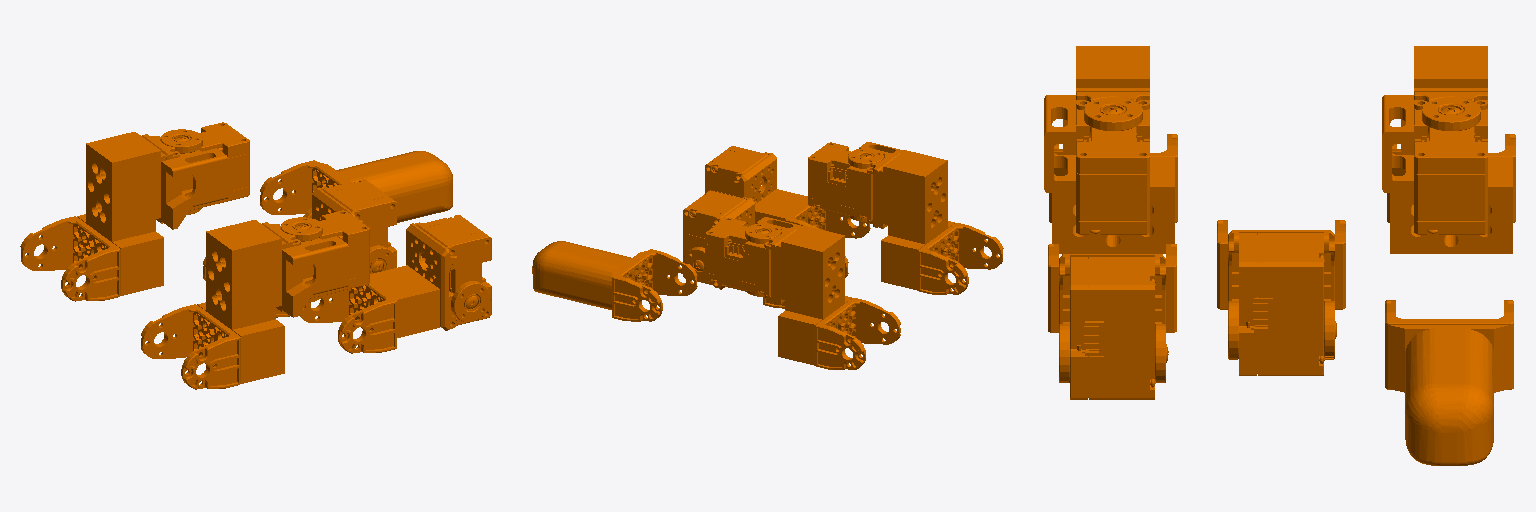
robot.urdf — onshape:
<robot name="onshape">
  <link name="palm_lower">
    <inertial>
      <origin xyz="0.0 0.0 0.0" rpy="0.0 -0.0 0.0"/>
      <mass value="0.237"/>
      <inertia ixx="0.000354094" ixy="-1.193e-06" ixz="-2.445e-06" iyy="0.000260915" iyz="-2.905e-06" izz="0.000529257"/>
    </inertial>
    <visual>
      <geometry>
        <mesh filename="../assets/leap/leap_hand/palm_lower.stl"/>
      </geometry>
      <origin xyz="-0.020095249652862544 0.025757756134899473 -0.034722403578460216" rpy="0.0 -0.0 0.0"/>
      <material name="palm_lower_material">
        <color rgba="0.6039215686274509 0.14901960784313725 0.14901960784313725 1.0"/>
      </material>
    </visual>
    <collision>
      <geometry>
        <mesh filename="../assets/leap/leap_hand/palm_lower.stl"/>
      </geometry>
      <origin xyz="-0.020095249652862544 0.025757756134899473 -0.034722403578460216" rpy="0.0 -0.0 0.0"/>
    </collision>
  </link>
  <link name="mcp_joint_long">
    <inertial>
      <origin xyz="0.0 0.0 0.0" rpy="0.0 -0.0 0.0"/>
      <mass value="0.044"/>
      <inertia ixx="1.1499e-05" ixy="3.049e-06" ixz="1.21e-07" iyy="7.796e-06" iyz="1.12e-07" izz="1.4759e-05"/>
    </inertial>
    <visual>
      <geometry>
        <mesh filename="custom_models/mcp_joint_long.stl"/>
      </geometry>
      <origin xyz="0.008406902261174496 0.0077662438597169954 0.014657354985032912" rpy="1.6375789613221e-15 -1.021047330249102e-30 1.7177968783327987e-31"/>
      <material name="mcp_joint_material">
        <color rgba="0.878 0.467 0.0 1.0"/>
      </material>
    </visual>
    <collision>
      <geometry>
        <mesh filename="custom_models/mcp_joint_long.stl"/>
      </geometry>
      <origin xyz="0.008406902261174496 0.0077662438597169954 0.014657354985032912" rpy="1.6375789613221e-15 -1.021047330249102e-30 1.7177968783327987e-31"/>
    </collision>
  </link>
  <link name="pip">
    <inertial>
      <origin xyz="0.0 0.0 0.0" rpy="0.0 -0.0 0.0"/>
      <mass value="0.032"/>
      <inertia ixx="4.798e-06" ixy="1.2e-08" ixz="4e-09" iyy="2.862e-06" iyz="1.1e-08" izz="4.234e-06"/>
    </inertial>
    <visual>
      <geometry>
        <mesh filename="../assets/leap/leap_hand/pip.stl"/>
      </geometry>
      <origin xyz="0.009643363092271328 0.0002999999999999895 0.0007840340104173765" rpy="-1.5707963267948966 -1.5707963267948963 0.0"/>
      <material name="pip_material">
        <color rgba="0.7490196078431373 0.7490196078431373 0.7490196078431373 1.0"/>
      </material>
    </visual>
    <collision>
      <geometry>
        <mesh filename="../assets/leap/leap_hand/pip.stl"/>
      </geometry>
      <origin xyz="0.009643363092271328 0.0002999999999999895 0.0007840340104173765" rpy="-1.5707963267948966 -1.5707963267948963 0.0"/>
    </collision>
  </link>
  <link name="dip">
    <inertial>
      <origin xyz="0.0 0.0 0.0" rpy="0.0 -0.0 0.0"/>
      <mass value="0.037"/>
      <inertia ixx="5.542e-06" ixy="-6.07e-07" ixz="-1.7e-08" iyy="5.727e-06" iyz="-2.3e-08" izz="6.682e-06"/>
    </inertial>
    <visual>
      <geometry>
        <mesh filename="../assets/leap/leap_hand/dip.stl"/>
      </geometry>
      <origin xyz="0.021133352895225003 -0.00843211914670488 0.00978508816209524" rpy="-3.141592653589793 4.507511124216441e-32 4.439548105392361e-32"/>
      <material name="dip_material">
        <color rgba="0.8666666666666667 0.8666666666666667 0.050980392156862744 1.0"/>
      </material>
    </visual>
    <collision>
      <geometry>
        <mesh filename="../assets/leap/leap_hand/dip.stl"/>
      </geometry>
      <origin xyz="0.021133352895225003 -0.00843211914670488 0.00978508816209524" rpy="-3.141592653589793 4.507511124216441e-32 4.439548105392361e-32"/>
    </collision>
  </link>
  <link name="fingertip_long">
    <inertial>
      <origin xyz="0.0 0.0 0.0" rpy="0.0 -0.0 0.0"/>
      <mass value="0.016"/>
      <inertia ixx="3.368e-06" ixy="1.15e-07" ixz="0.0" iyy="1.556e-06" iyz="0.0" izz="2.863e-06"/>
    </inertial>
    <visual>
      <geometry>
        <mesh filename="custom_models/fingertip_long.stl"/>
      </geometry>
      <origin xyz="0.013286424108533503 -0.006114238386541987 0.014499999999999498" rpy="3.141592653589793 1.1993117970061735e-33 4.439548105392361e-32"/>
      <material name="fingertip_material">
        <color rgba="0.878 0.467 0.0 1.0"/>
      </material>
    </visual>
    <collision>
      <geometry>
        <mesh filename="custom_models/fingertip_long.stl"/>
      </geometry>
      <origin xyz="0.013286424108533503 -0.006114238386541987 0.014499999999999498" rpy="3.141592653589793 1.1993117970061735e-33 4.439548105392361e-32"/>
    </collision>
  </link>
  <link name="pip_4">
    <inertial>
      <origin xyz="0.0 0.0 0.0" rpy="0.0 -0.0 0.0"/>
      <mass value="0.032"/>
      <inertia ixx="4.798e-06" ixy="1.2e-08" ixz="4e-09" iyy="2.862e-06" iyz="1.1e-08" izz="4.234e-06"/>
    </inertial>
    <visual>
      <geometry>
        <mesh filename="../assets/leap/leap_hand/pip.stl"/>
      </geometry>
      <origin xyz="-0.005356636907728671 0.0002999999999999999 0.0007840340104173782" rpy="-1.5707963267948966 -1.5707963267948963 0.0"/>
      <material name="pip_material">
        <color rgba="0.7490196078431373 0.7490196078431373 0.7490196078431373 1.0"/>
      </material>
    </visual>
    <collision>
      <geometry>
        <mesh filename="../assets/leap/leap_hand/pip.stl"/>
      </geometry>
      <origin xyz="-0.005356636907728671 0.0002999999999999999 0.0007840340104173782" rpy="-1.5707963267948966 -1.5707963267948963 0.0"/>
    </collision>
  </link>
  <link name="thumb_pip">
    <inertial>
      <origin xyz="0.0 0.0 0.0" rpy="0.0 -0.0 0.0"/>
      <mass value="0.003"/>
      <inertia ixx="5.93e-07" ixy="0.0" ixz="0.0" iyy="5.49e-07" iyz="0.0" izz="2.24e-07"/>
    </inertial>
    <visual>
      <geometry>
        <mesh filename="../assets/leap/leap_hand/thumb_pip.stl"/>
      </geometry>
      <origin xyz="0.011961920770611187 -5.30825383648903e-16 -0.0158526489566642" rpy="1.5707963267948966 1.6050198443300153e-46 -3.9204996250525193e-59"/>
      <material name="thumb_pip_material">
        <color rgba="0.8666666666666667 0.8666666666666667 0.050980392156862744 1.0"/>
      </material>
    </visual>
    <collision>
      <geometry>
        <mesh filename="../assets/leap/leap_hand/thumb_pip.stl"/>
      </geometry>
      <origin xyz="0.011961920770611187 -5.30825383648903e-16 -0.0158526489566642" rpy="1.5707963267948966 1.6050198443300153e-46 -3.9204996250525193e-59"/>
    </collision>
  </link>
  <link name="thumb_dip">
    <inertial>
      <origin xyz="0.0 0.0 0.0" rpy="0.0 -0.0 0.0"/>
      <mass value="0.038"/>
      <inertia ixx="8.474e-06" ixy="2.41e-07" ixz="2.6e-08" iyy="3.841e-06" iyz="2.5e-08" izz="7.679e-06"/>
    </inertial>
    <visual>
      <geometry>
        <mesh filename="../assets/leap/leap_hand/thumb_dip.stl"/>
      </geometry>
      <origin xyz="0.043968715707239175 0.0579529529737092 -0.008628676449369476" rpy="1.94289029309401e-16 3.27515792264422e-15 1.112375852965736e-46"/>
      <material name="thumb_dip_material">
        <color rgba="0.8666666666666667 0.8666666666666667 0.050980392156862744 1.0"/>
      </material>
    </visual>
    <collision>
      <geometry>
        <mesh filename="../assets/leap/leap_hand/thumb_dip.stl"/>
      </geometry>
      <origin xyz="0.043968715707239175 0.0579529529737092 -0.008628676449369476" rpy="1.94289029309401e-16 3.27515792264422e-15 1.112375852965736e-46"/>
    </collision>
  </link>
  <link name="thumb_fingertip">
    <inertial>
      <origin xyz="0.0 0.0 0.0" rpy="0.0 -0.0 0.0"/>
      <mass value="0.049"/>
      <inertia ixx="2.0372e-05" ixy="-4.89e-07" ixz="-3e-08" iyy="4.336e-06" iyz="-9.7e-08" izz="1.9845e-05"/>
    </inertial>
    <visual>
      <geometry>
        <mesh filename="../assets/leap/leap_hand/thumb_fingertip.stl"/>
      </geometry>
      <origin xyz="0.06255953846266739 0.07845968291139699 0.048992911807332215" rpy="4.379057701015637e-47 -3.33066907387547e-16 1.2042408677791935e-46"/>
      <material name="thumb_fingertip_material">
        <color rgba="0.6039215686274509 0.14901960784313725 0.14901960784313725 1.0"/>
      </material>
    </visual>
    <collision>
      <geometry>
        <mesh filename="../assets/leap/leap_hand/thumb_fingertip.stl"/>
      </geometry>
      <origin xyz="0.06255953846266739 0.07845968291139699 0.048992911807332215" rpy="4.379057701015637e-47 -3.33066907387547e-16 1.2042408677791935e-46"/>
    </collision>
  </link>
  <link name="mcp_joint_2">
    <inertial>
      <origin xyz="0.0 0.0 0.0" rpy="0.0 -0.0 0.0"/>
      <mass value="0.044"/>
      <inertia ixx="1.1499e-05" ixy="3.049e-06" ixz="1.21e-07" iyy="7.796e-06" iyz="1.12e-07" izz="1.4759e-05"/>
    </inertial>
    <visual>
      <geometry>
        <mesh filename="../assets/leap/leap_hand/mcp_joint.stl"/>
      </geometry>
      <origin xyz="0.008406902261174496 0.0077662438597169954 0.014657354985032914" rpy="1.6375789613221e-15 -1.0076465469034e-30 2.1209300131419907e-61"/>
      <material name="mcp_joint_material">
        <color rgba="0.8666666666666667 0.8666666666666667 0.050980392156862744 1.0"/>
      </material>
    </visual>
    <collision>
      <geometry>
        <mesh filename="../assets/leap/leap_hand/mcp_joint.stl"/>
      </geometry>
      <origin xyz="0.008406902261174496 0.0077662438597169954 0.014657354985032914" rpy="1.6375789613221e-15 -1.0076465469034e-30 2.1209300131419907e-61"/>
    </collision>
  </link>
  <link name="pip_2">
    <inertial>
      <origin xyz="0.0 0.0 0.0" rpy="0.0 -0.0 0.0"/>
      <mass value="0.032"/>
      <inertia ixx="4.798e-06" ixy="1.2e-08" ixz="4e-09" iyy="2.862e-06" iyz="1.1e-08" izz="4.234e-06"/>
    </inertial>
    <visual>
      <geometry>
        <mesh filename="../assets/leap/leap_hand/pip.stl"/>
      </geometry>
      <origin xyz="0.009643363092271328 0.0002999999999999947 0.0007840340104173765" rpy="-1.5707963267948966 -1.5707963267948963 0.0"/>
      <material name="pip_material">
        <color rgba="0.7490196078431373 0.7490196078431373 0.7490196078431373 1.0"/>
      </material>
    </visual>
    <collision>
      <geometry>
        <mesh filename="../assets/leap/leap_hand/pip.stl"/>
      </geometry>
      <origin xyz="0.009643363092271328 0.0002999999999999947 0.0007840340104173765" rpy="-1.5707963267948966 -1.5707963267948963 0.0"/>
    </collision>
  </link>
  <link name="dip_2_long">
    <inertial>
      <origin xyz="0.0 0.0 0.0" rpy="0.0 -0.0 0.0"/>
      <mass value="0.037"/>
      <inertia ixx="5.542e-06" ixy="-6.07e-07" ixz="-1.7e-08" iyy="5.727e-06" iyz="-2.3e-08" izz="6.682e-06"/>
    </inertial>
    <visual>
      <geometry>
        <mesh filename="custom_models/dip_long.stl"/>
      </geometry>
      <origin xyz="0.021133352895225003 -0.008432119146704865 0.009785088162095237" rpy="-3.141592653589793 2.1146933785271956e-32 1.4408183216511869e-31"/>
      <material name="dip_material">
        <color rgba="0.878 0.467 0.0 1.0"/>
      </material>
    </visual>
    <collision>
      <geometry>
        <mesh filename="custom_models/dip_long.stl"/>
      </geometry>
      <origin xyz="0.021133352895225003 -0.008432119146704865 0.009785088162095237" rpy="-3.141592653589793 2.1146933785271956e-32 1.4408183216511869e-31"/>
    </collision>
  </link>
  <link name="fingertip_2">
    <inertial>
      <origin xyz="0.0 0.0 0.0" rpy="0.0 -0.0 0.0"/>
      <mass value="0.016"/>
      <inertia ixx="3.368e-06" ixy="1.15e-07" ixz="0.0" iyy="1.556e-06" iyz="0.0" izz="2.863e-06"/>
    </inertial>
    <visual>
      <geometry>
        <mesh filename="../assets/leap/leap_hand/fingertip.stl"/>
      </geometry>
      <origin xyz="0.013286424108533496 -0.006114238386542001 0.014499999999999496" rpy="3.141592653589793 -4.317959788283594e-33 1.4408183216511869e-31"/>
      <material name="fingertip_material">
        <color rgba="0.8666666666666667 0.8666666666666667 0.050980392156862744 1.0"/>
      </material>
    </visual>
    <collision>
      <geometry>
        <mesh filename="../assets/leap/leap_hand/fingertip.stl"/>
      </geometry>
      <origin xyz="0.013286424108533496 -0.006114238386542001 0.014499999999999496" rpy="3.141592653589793 -4.317959788283594e-33 1.4408183216511869e-31"/>
    </collision>
  </link>
  <link name="mcp_joint_3_long">
    <inertial>
      <origin xyz="0.0 0.0 0.0" rpy="0.0 -0.0 0.0"/>
      <mass value="0.044"/>
      <inertia ixx="1.1499e-05" ixy="3.049e-06" ixz="1.21e-07" iyy="7.796e-06" iyz="1.12e-07" izz="1.4759e-05"/>
    </inertial>
    <visual>
      <geometry>
        <mesh filename="custom_models/mcp_joint_long.stl"/>
      </geometry>
      <origin xyz="0.0084069022611745 0.007766243859716996 0.014657354985032914" rpy="1.6375789613221e-15 -1.0059504988632627e-30 5.729641584552035e-32"/>
      <material name="mcp_joint_material">
        <color rgba="0.878 0.467 0.0 1.0"/>
      </material>
    </visual>
    <collision>
      <geometry>
        <mesh filename="custom_models/mcp_joint_long.stl"/>
      </geometry>
      <origin xyz="0.0084069022611745 0.007766243859716996 0.014657354985032914" rpy="1.6375789613221e-15 -1.0059504988632627e-30 5.729641584552035e-32"/>
    </collision>
  </link>
  <link name="pip_3">
    <inertial>
      <origin xyz="0.0 0.0 0.0" rpy="0.0 -0.0 0.0"/>
      <mass value="0.032"/>
      <inertia ixx="4.798e-06" ixy="1.2e-08" ixz="4e-09" iyy="2.862e-06" iyz="1.1e-08" izz="4.234e-06"/>
    </inertial>
    <visual>
      <geometry>
        <mesh filename="../assets/leap/leap_hand/pip.stl"/>
      </geometry>
      <origin xyz="0.009643363092271331 0.00029999999999998084 0.0007840340104173765" rpy="-1.5707963267948966 -1.5707963267948963 0.0"/>
      <material name="pip_material">
        <color rgba="0.7490196078431373 0.7490196078431373 0.7490196078431373 1.0"/>
      </material>
    </visual>
    <collision>
      <geometry>
        <mesh filename="../assets/leap/leap_hand/pip.stl"/>
      </geometry>
      <origin xyz="0.009643363092271331 0.00029999999999998084 0.0007840340104173765" rpy="-1.5707963267948966 -1.5707963267948963 0.0"/>
    </collision>
  </link>
  <link name="dip_3_long">
    <inertial>
      <origin xyz="0.0 0.0 0.0" rpy="0.0 -0.0 0.0"/>
      <mass value="0.037"/>
      <inertia ixx="5.542e-06" ixy="-6.07e-07" ixz="-1.7e-08" iyy="5.727e-06" iyz="-2.3e-08" izz="6.682e-06"/>
    </inertial>
    <visual>
      <geometry>
        <mesh filename="custom_models/dip_long.stl"/>
      </geometry>
      <origin xyz="0.021133352895225006 -0.008432119146704865 0.009785088162095237" rpy="-3.141592653589793 -1.4095651113919093e-33 1.5565411607615035e-32"/>
      <material name="dip_material">
        <color rgba="0.878 0.467 0.0 1.0"/>
      </material>
    </visual>
    <collision>
      <geometry>
        <mesh filename="custom_models/dip_long.stl"/>
      </geometry>
      <origin xyz="0.021133352895225006 -0.008432119146704865 0.009785088162095237" rpy="-3.141592653589793 -1.4095651113919093e-33 1.5565411607615035e-32"/>
    </collision>
  </link>
  <link name="fingertip_3">
    <inertial>
      <origin xyz="0.0 0.0 0.0" rpy="0.0 -0.0 0.0"/>
      <mass value="0.016"/>
      <inertia ixx="3.368e-06" ixy="1.15e-07" ixz="0.0" iyy="1.556e-06" iyz="0.0" izz="2.863e-06"/>
    </inertial>
    <visual>
      <geometry>
        <mesh filename="../assets/leap/leap_hand/fingertip.stl"/>
      </geometry>
      <origin xyz="0.013286424108533501 -0.006114238386541987 0.0144999999999995" rpy="3.141592653589793 8.61707169505754e-33 1.5565411607615035e-32"/>
      <material name="fingertip_material">
        <color rgba="0.8666666666666667 0.8666666666666667 0.050980392156862744 1.0"/>
      </material>
    </visual>
    <collision>
      <geometry>
        <mesh filename="../assets/leap/leap_hand/fingertip.stl"/>
      </geometry>
      <origin xyz="0.013286424108533501 -0.006114238386541987 0.0144999999999995" rpy="3.141592653589793 8.61707169505754e-33 1.5565411607615035e-32"/>
    </collision>
  </link>
  <joint name="1" type="revolute">
    <parent link="palm_lower"/>
    <child link="mcp_joint_long"/>
    <origin xyz="-0.007095249652862546 0.023057756134899472 -0.01872240357846022" rpy="1.570796326794895 1.5707963267948946 0.0"/>
    <axis xyz="0.0 0.0 -1.0"/>
    <limit effort="0.95" velocity="8.48" lower="-0.314" upper="2.23"/>
  </joint>
  <joint name="0" type="revolute">
    <parent link="mcp_joint_long"/>
    <child link="pip"/>
    <origin xyz="-0.012200000000000007713 0.053099999999999994982 0.014500000000000000736" rpy="-1.5707963267948966 -1.0065212660796337e-15 1.5707963267948943"/>
    <axis xyz="0.0 0.0 -1.0"/>
    <limit effort="0.95" velocity="8.48" lower="-1.047" upper="1.047"/>
  </joint>
  <joint name="2" type="revolute">
    <parent link="pip"/>
    <child link="dip"/>
    <origin xyz="0.014999999999999968 0.014299999999999905 -0.012999999999999824" rpy="1.570796326794896 -1.5707963267948963 0.0"/>
    <axis xyz="0.0 0.0 -1.0"/>
    <limit effort="0.95" velocity="8.48" lower="-0.506" upper="1.885"/>
  </joint>
  <joint name="3" type="revolute">
    <parent link="dip"/>
    <child link="fingertip_long"/>
    <origin xyz="-4.088058249557269e-09 -0.03610000421036737 0.0002000000000000786" rpy="4.5935029425113685e-17 -2.8730071914463795e-16 4.439548105392361e-32"/>
    <axis xyz="0.0 0.0 -1.0"/>
    <limit effort="0.95" velocity="8.48" lower="-0.366" upper="2.042"/>
  </joint>
  <joint name="12" type="revolute">
    <parent link="palm_lower"/>
    <child link="pip_4"/>
    <origin xyz="-0.06939524965286253 -0.0012422438651005258 -0.021622403578460216" rpy="-8.238176646493942e-17 1.5707963267948957 0.0"/>
    <axis xyz="0.0 0.0 -1.0"/>
    <limit effort="0.95" velocity="8.48" lower="-0.349" upper="2.094"/>
  </joint>
  <joint name="13" type="revolute">
    <parent link="pip_4"/>
    <child link="thumb_pip"/>
    <origin xyz="-2.7755575615628914e-17 0.014300000000000005 -0.013000000000000012" rpy="1.570796326794896 -1.5707963267948963 0.0"/>
    <axis xyz="0.0 0.0 -1.0"/>
    <limit effort="0.95" velocity="8.48" lower="-0.47" upper="2.443"/>
  </joint>
  <joint name="14" type="revolute">
    <parent link="thumb_pip"/>
    <child link="thumb_dip"/>
    <origin xyz="0.0 0.014499999999999966 -0.017000000000000053" rpy="-1.5707963267948966 1.6050198443300131e-46 -1.9721522630516625e-31"/>
    <axis xyz="0.0 0.0 -1.0"/>
    <limit effort="0.95" velocity="8.48" lower="-1.2" upper="1.9"/>
  </joint>
  <joint name="15" type="revolute">
    <parent link="thumb_dip"/>
    <child link="thumb_fingertip"/>
    <origin xyz="-1.249000902703301e-16 0.046599999999999864 0.0001999999999999771" rpy="1.506395849149178e-44 5.423418723393526e-31 3.141592653589793"/>
    <axis xyz="0.0 0.0 -1.0"/>
    <limit effort="0.95" velocity="8.48" lower="-1.34" upper="1.88"/>
  </joint>
  <joint name="5" type="revolute">
    <parent link="palm_lower"/>
    <child link="mcp_joint_2"/>
    <origin xyz="-0.007095249652862546 -0.022392243865100525 -0.01872240357846022" rpy="1.570796326794895 1.5707963267948946 0.0"/>
    <axis xyz="0.0 0.0 -1.0"/>
    <limit effort="0.95" velocity="8.48" lower="-0.314" upper="2.23"/>
  </joint>
  <joint name="4" type="revolute">
    <parent link="mcp_joint_2"/>
    <child link="pip_2"/>
    <origin xyz="-0.012200000000000008 0.038099999999999995 0.0145" rpy="-1.5707963267948966 -1.0065212660796337e-15 1.5707963267948943"/>
    <axis xyz="0.0 0.0 -1.0"/>
    <limit effort="0.95" velocity="8.48" lower="-1.047" upper="1.047"/>
  </joint>
  <joint name="6" type="revolute">
    <parent link="pip_2"/>
    <child link="dip_2_long"/>
    <origin xyz="0.014999999999999968 0.014299999999999905 -0.012999999999999824" rpy="1.570796326794896 -1.5707963267948963 0.0"/>
    <axis xyz="0.0 0.0 -1.0"/>
    <limit effort="0.95" velocity="8.48" lower="-0.506" upper="1.885"/>
  </joint>
  <joint name="7" type="revolute">
    <parent link="dip_2_long"/>
    <child link="fingertip_2"/>
    <origin xyz="-4.0880582495572692636e-09 -0.051100004210367367397 0.00020000000000007858714" rpy="4.5935029425113685e-17 -2.8730071914463795e-16 4.439548105392361e-32"/>
    <axis xyz="0.0 0.0 -1.0"/>
    <limit effort="0.95" velocity="8.48" lower="-0.366" upper="2.042"/>
  </joint>
  <joint name="9" type="revolute">
    <parent link="palm_lower"/>
    <child link="mcp_joint_3_long"/>
    <origin xyz="-0.007095249652862546 -0.06784224386510052 -0.01872240357846022" rpy="1.570796326794895 1.5707963267948946 0.0"/>
    <axis xyz="0.0 0.0 -1.0"/>
    <limit effort="0.95" velocity="8.48" lower="-0.314" upper="2.23"/>
  </joint>
  <joint name="8" type="revolute">
    <parent link="mcp_joint_3_long"/>
    <child link="pip_3"/>
    <origin xyz="-0.012200000000000007713 0.053099999999999994982 0.014500000000000000736" rpy="-1.5707963267948966 -1.0065212660796337e-15 1.5707963267948943"/>
    <axis xyz="0.0 0.0 -1.0"/>
    <limit effort="0.95" velocity="8.48" lower="-1.047" upper="1.047"/>
  </joint>
  <joint name="10" type="revolute">
    <parent link="pip_3"/>
    <child link="dip_3_long"/>
    <origin xyz="0.014999999999999968 0.014299999999999905 -0.012999999999999824" rpy="1.570796326794896 -1.5707963267948963 0.0"/>
    <axis xyz="0.0 0.0 -1.0"/>
    <limit effort="0.95" velocity="8.48" lower="-0.506" upper="1.885"/>
  </joint>
  <joint name="11" type="revolute">
    <parent link="dip_3_long"/>
    <child link="fingertip_3"/>
    <origin xyz="-4.0880582495572692636e-09 -0.051100004210367367397 0.00020000000000007858714" rpy="4.5935029425113685e-17 -2.8730071914463795e-16 4.439548105392361e-32"/>
    <axis xyz="0.0 0.0 -1.0"/>
    <limit effort="0.95" velocity="8.48" lower="-0.366" upper="2.042"/>
  </joint>
</robot>

--- Render facts (derived) ---
Views: 3 orthographic renders of the robot side by side, from view 1: azimuth 30°, elevation 25°; view 2: azimuth 150°, elevation 25°; view 3: azimuth 270°, elevation 25°.
Robot: onshape — 17 links, 16 joints (16 revolute); root link palm_lower; default pose: every joint at zero.
Links seen in each view (by area): view 1: mcp_joint_3_long, mcp_joint_long, dip_3_long, fingertip_long, dip_2_long; view 2: mcp_joint_long, mcp_joint_3_long, fingertip_long, dip_3_long, dip_2_long; view 3: mcp_joint_long, mcp_joint_3_long, dip_2_long, dip_3_long, fingertip_long.
Link boxes in pixels (x1,y1,x2,y2): mcp_joint_3_long: [141, 210, 369, 389]; mcp_joint_long: [20, 122, 249, 301]; dip_3_long: [299, 215, 491, 353]; fingertip_long: [260, 151, 452, 222]; dip_2_long: [203, 179, 396, 317]; mcp_joint_long: [705, 217, 900, 369]; mcp_joint_3_long: [808, 142, 1003, 294]; fingertip_long: [532, 241, 697, 321]; dip_3_long: [705, 146, 870, 238]; dip_2_long: [683, 190, 848, 308]; mcp_joint_long: [1382, 46, 1515, 253]; mcp_joint_3_long: [1044, 46, 1177, 253]; dip_2_long: [1217, 220, 1345, 375]; dip_3_long: [1048, 244, 1176, 399]; fingertip_long: [1385, 300, 1513, 465].
Size in the robot's own frame: 0.1766 by 0.1267 by 0.0549 metres.
Meshes: 11 distinct files referenced, 5 mesh visuals loaded (3 binary STL); not drawn: 12 (reference not matched to a file when rendering).